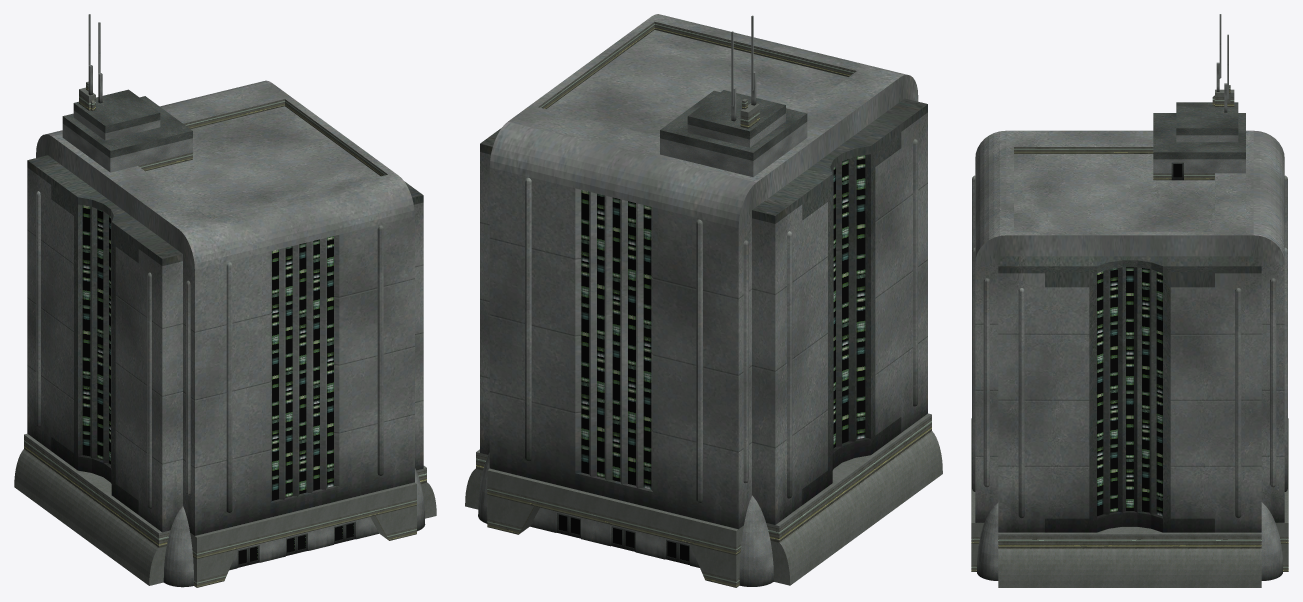
Rendered from thm_corl_imprv_building_s03_l0.fbx.
3 renders of one model, left to right at view 1: azimuth 30°, elevation 25°; view 2: azimuth 150°, elevation 25°; view 3: azimuth 270°, elevation 25°, orthographic. The views are drawn at different scales.
Parts seen in each view (by area): view 1: mesh_node; view 2: mesh_node; view 3: mesh_node.
Part boxes in pixels (x1,y1,x2,y2): mesh_node: (14,14,436,587); mesh_node: (465,14,942,587); mesh_node: (971,14,1288,587).
Size of the model in its own units: 41.8 by 66 by 41.
